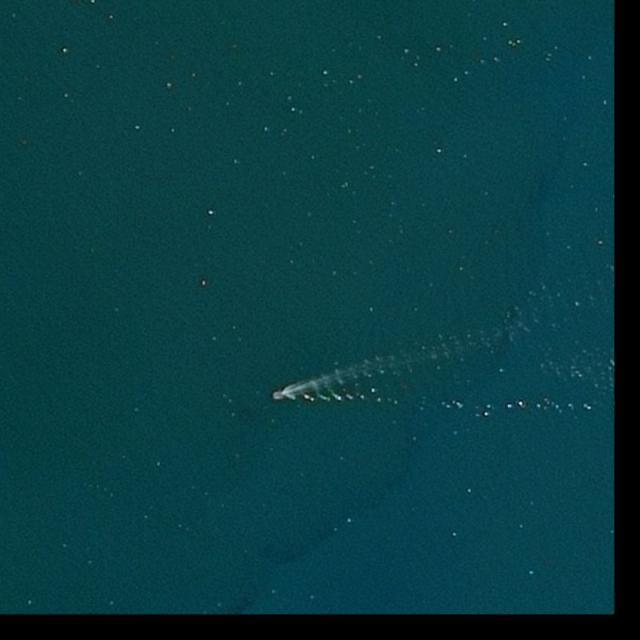ship: (274, 392, 286, 396)
